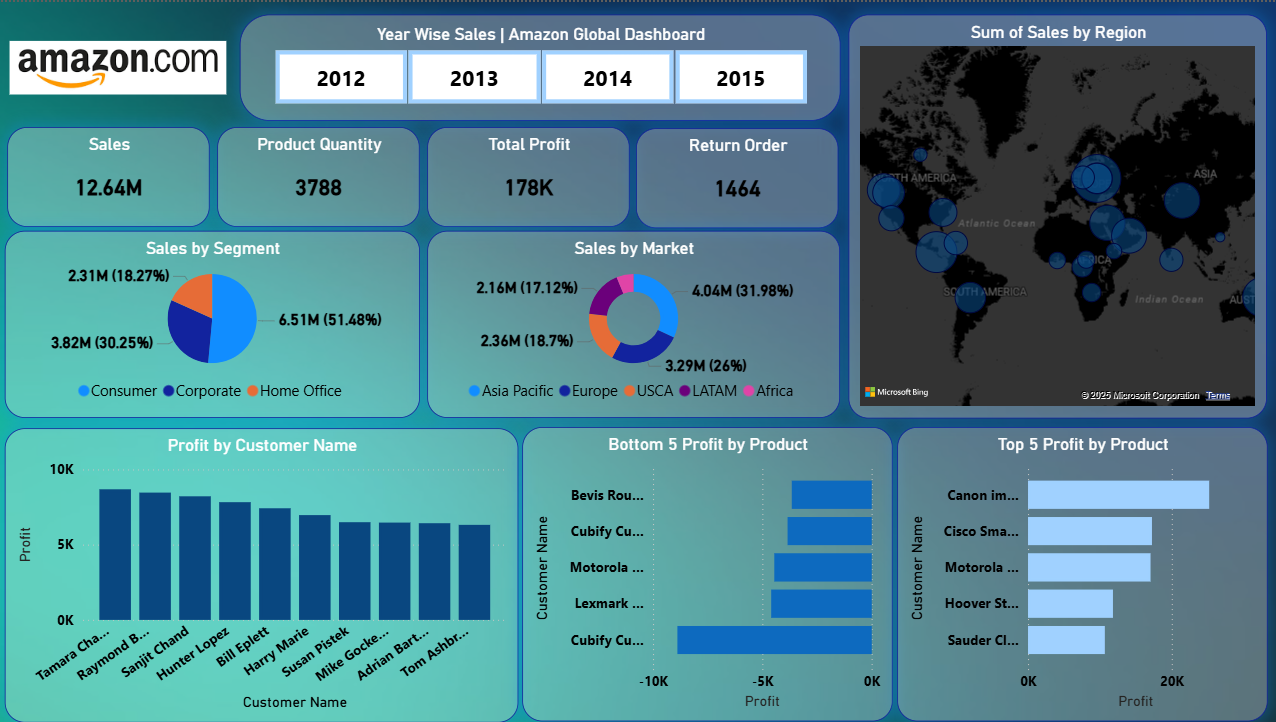

This screenshot's page, from the dashboard's own definition file:
{"tool":"powerbi","page":{"name":"Report 2","canvas":[1280,720],"ordinal":1},"visuals":[{"type":"slicer","title":"Year Wise Sales | Amazon Global Dashboard","fields":{"Values":["Orders.Year"]},"box":[243.7,12.1,600.8,106.2],"z":0},{"type":"image","box":[8.4,12.1,226.8,106.2],"z":1000},{"type":"card","title":"Sales ","fields":{"Values":["Orders.Sales"]},"box":[10.9,125.5,202.7,100.1],"z":2000},{"type":"card","title":"Product Quantity","fields":{"Values":["Orders.Product Name"]},"box":[220.8,125.5,202.7,100.1],"z":3000},{"type":"card","title":"Total Profit","fields":{"Values":["Orders.Quantity"]},"box":[430.7,125.5,202.7,100.1],"z":4000},{"type":"card","title":"Return Order","fields":{"Values":["Orders.Ship Date"]},"box":[640.6,126.7,202.7,100.1],"z":5000},{"type":"pieChart","title":"Sales by Segment","fields":{"Y":["Orders.Sales"],"Category":["Orders.Segment"]},"box":[8.4,229.2,415,187],"z":6000},{"type":"donutChart","title":"Sales by Market","fields":{"Y":["Orders.Sales"],"Category":["Orders.Market"]},"box":[430.7,229.2,412.6,187],"z":7000},{"type":"columnChart","title":"Profit by Customer Name","fields":{"Category":["Orders.Customer Name"],"Y":["Orders.Profit"]},"box":[8.4,425.9,513.9,294.4],"z":8000},{"type":"clusteredBarChart","title":"Bottom 5 Profit by Product","fields":{"Category":["Orders.Product Name"],"Y":["Orders.Profit"]},"box":[526,425.6,370.4,294.4],"z":9000},{"type":"clusteredBarChart","title":"Top 5 Profit by Product","fields":{"Y":["Orders.Profit"],"Category":["Orders.Product Name"]},"box":[901.2,425.6,370.4,294.4],"z":10000},{"type":"map","fields":{"Category":["Orders.Region"],"Size":["Orders.Sales"]},"box":[853,12.1,418.6,404.2],"z":11000}]}

Visuals, with their boxes in screenshot pixels (x1, y1, x2, y2), scaled from the page's 1280x720 canvas onto the 1276x722 screenshot:
"Year Wise Sales | Amazon Global Dashboard" slicer: [x1=243, y1=12, x2=842, y2=119]
image: [x1=8, y1=12, x2=234, y2=119]
"Sales " card: [x1=11, y1=126, x2=213, y2=226]
"Product Quantity" card: [x1=220, y1=126, x2=422, y2=226]
"Total Profit" card: [x1=429, y1=126, x2=631, y2=226]
"Return Order" card: [x1=639, y1=127, x2=841, y2=227]
"Sales by Segment" pieChart: [x1=8, y1=230, x2=422, y2=417]
"Sales by Market" donutChart: [x1=429, y1=230, x2=841, y2=417]
"Profit by Customer Name" columnChart: [x1=8, y1=427, x2=521, y2=721]
"Bottom 5 Profit by Product" clusteredBarChart: [x1=524, y1=427, x2=894, y2=721]
"Top 5 Profit by Product" clusteredBarChart: [x1=898, y1=427, x2=1268, y2=721]
map - Orders.Region x Orders.Sales: [x1=850, y1=12, x2=1268, y2=417]
